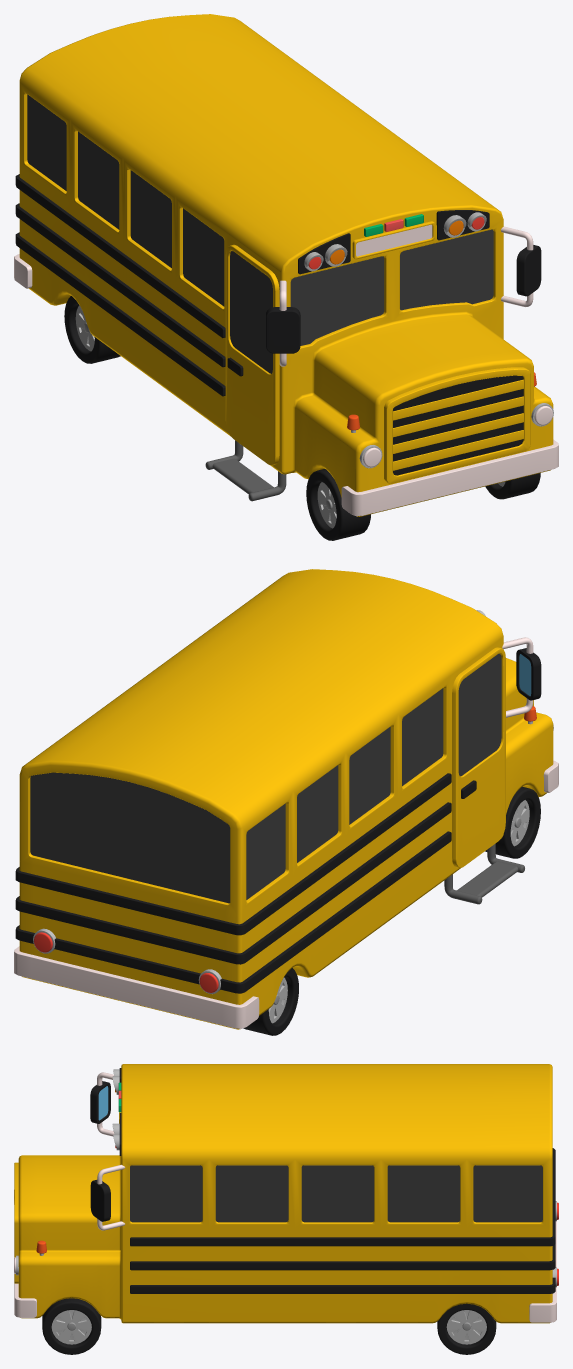
The model's file is Public_8_School_Bus_1.glb.
The picture shows the model from 3 angles, top to bottom: view 1: azimuth 30°, elevation 25°; view 2: azimuth 150°, elevation 25°; view 3: azimuth 270°, elevation 25°; orthographic projection. The views are drawn at different scales.
Parts seen in each view (by area): view 1: Public_8_School_Bus_1; view 2: Public_8_School_Bus_1; view 3: Public_8_School_Bus_1.
Part boxes in pixels (x1,y1,x2,y2): Public_8_School_Bus_1: [14, 14, 558, 540]; Public_8_School_Bus_1: [14, 569, 558, 1035]; Public_8_School_Bus_1: [14, 1064, 558, 1354].
Size of the model in its own units: 3.95 by 3.8 by 8.3.
Materials: 1 (1 with a texture image).
